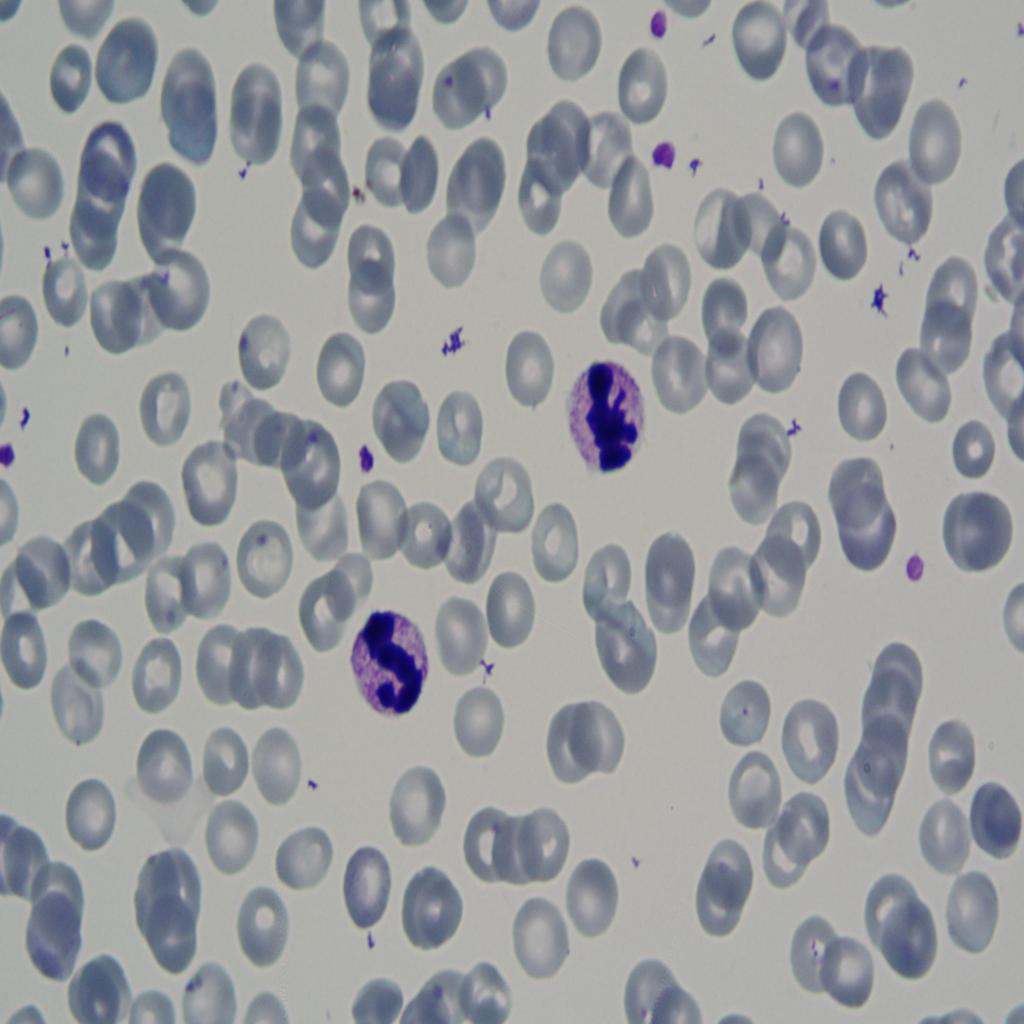Neutrofil: (344, 592, 430, 717), (566, 355, 649, 479)
Platelet: (896, 536, 936, 596), (646, 131, 680, 186), (864, 274, 900, 318), (645, 6, 674, 52), (346, 434, 378, 475), (0, 436, 26, 478)
